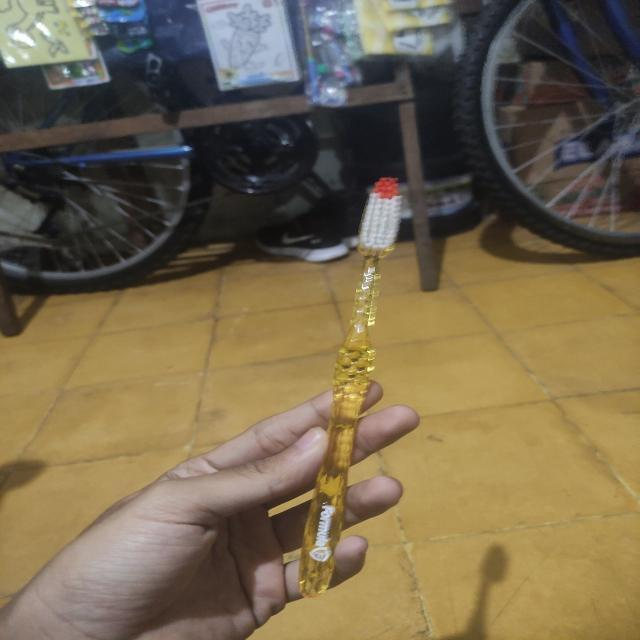toothbrush: (228, 128, 448, 616)
